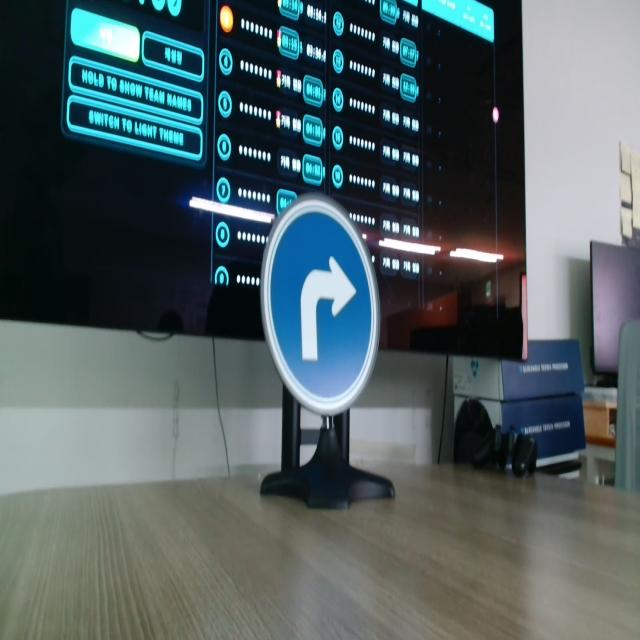right_dierection: (263, 197, 381, 403)
